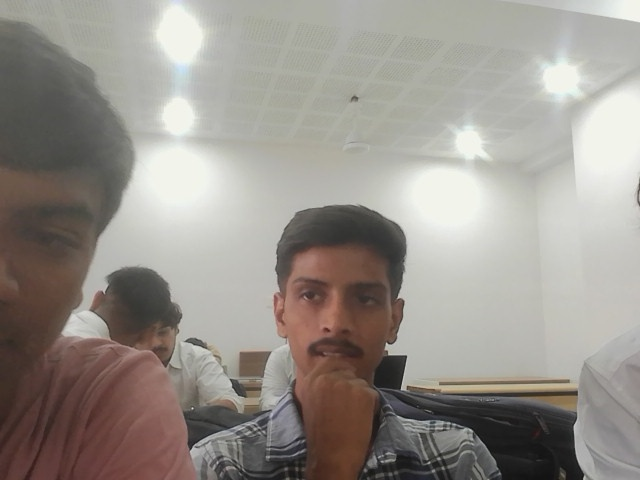fan_on: (340, 94, 370, 154)
light_on: (150, 14, 211, 134), (444, 120, 490, 162), (537, 65, 564, 92)
person: (0, 35, 208, 479), (246, 207, 442, 473), (573, 159, 639, 479), (126, 282, 246, 438)
